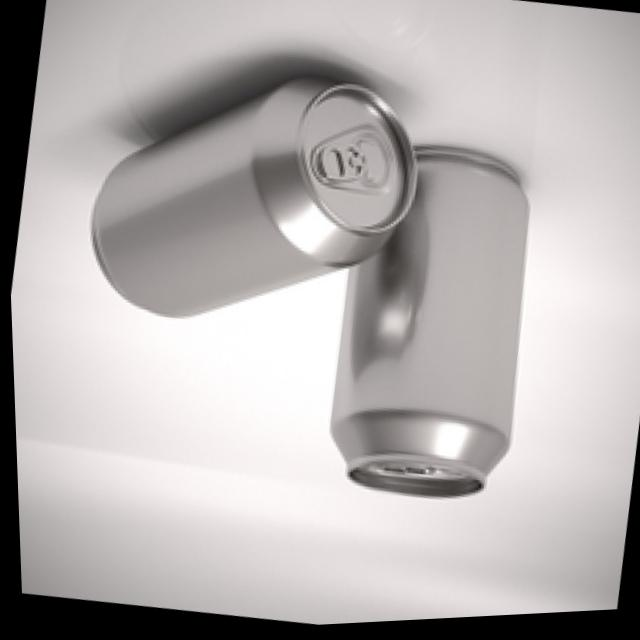aluminum_soda_cans: (84, 58, 434, 360), (302, 139, 550, 520)
